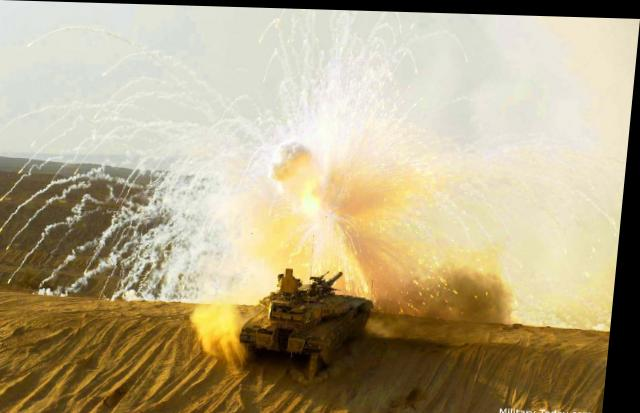tank: (234, 248, 392, 374)
